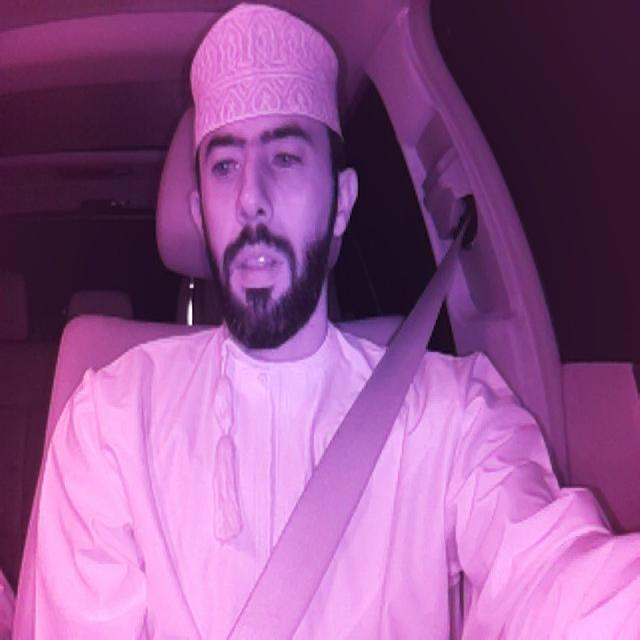seatbelt: (230, 212, 470, 638)
